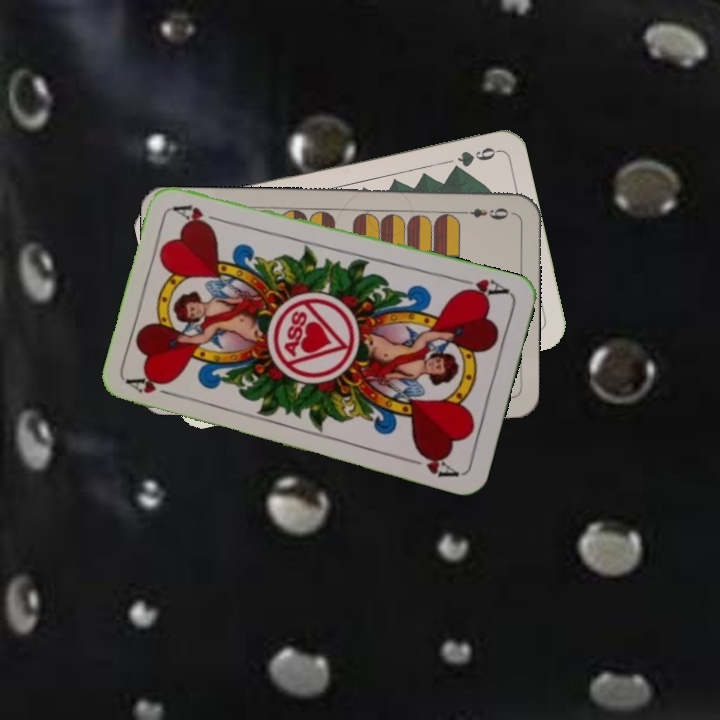E9: (456, 203, 511, 222)
G9: (453, 143, 500, 170)
HA: (125, 373, 183, 401), (453, 274, 512, 301)
